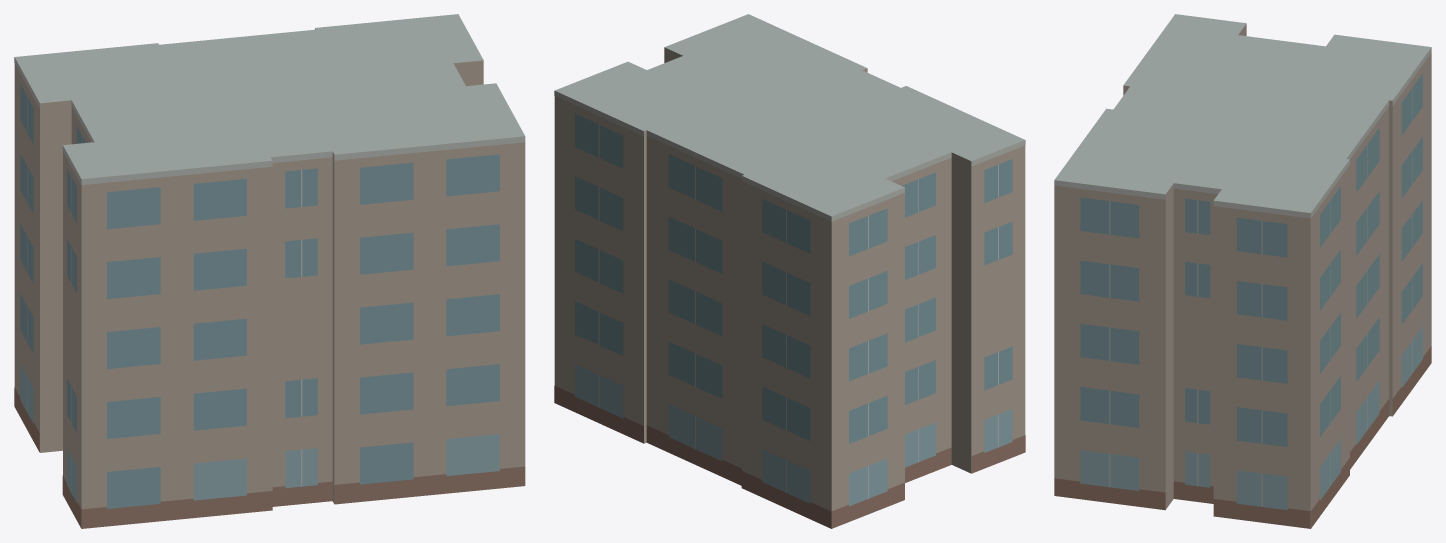
Rendered from survey-upis-32778247.glb.
The picture shows the model from 3 angles, left to right: view 1: azimuth 30°, elevation 25°; view 2: azimuth 150°, elevation 25°; view 3: azimuth 270°, elevation 25°; orthographic projection. The views are drawn at different scales.
Visible parts, largest first — view 1: survey-upis-32778247.tmp; view 2: survey-upis-32778247.tmp; view 3: survey-upis-32778247.tmp.
Boxes of the visible parts, left/top/right/bottom form: survey-upis-32778247.tmp: left=14, top=14, right=525, bottom=528; survey-upis-32778247.tmp: left=554, top=14, right=1025, bottom=528; survey-upis-32778247.tmp: left=1054, top=14, right=1431, bottom=528.
Bounding box in the file's own units: 19.49 × 14.4 × 15.61.
